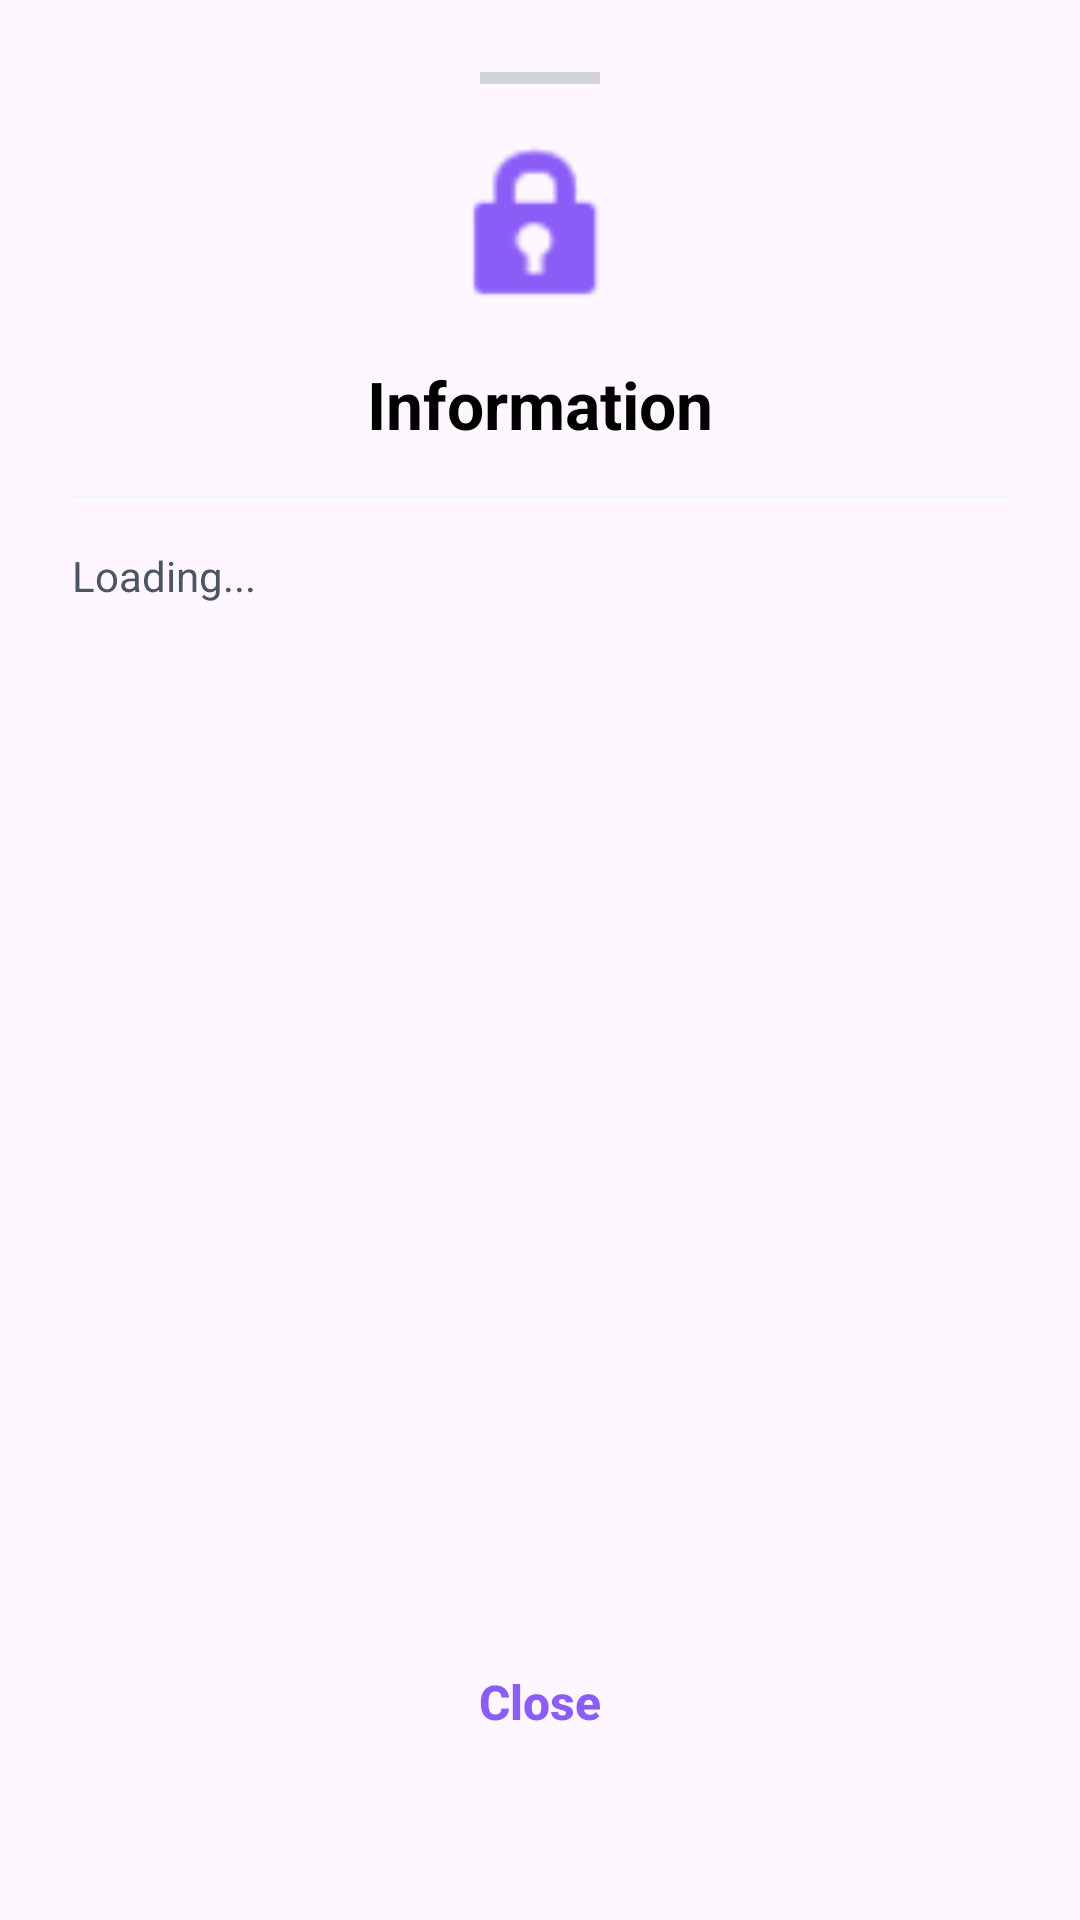

Icons on this 1080x1920 Android screen, each with the point to tap as (x=x, y=y):
lock idle: (x=535, y=222)
